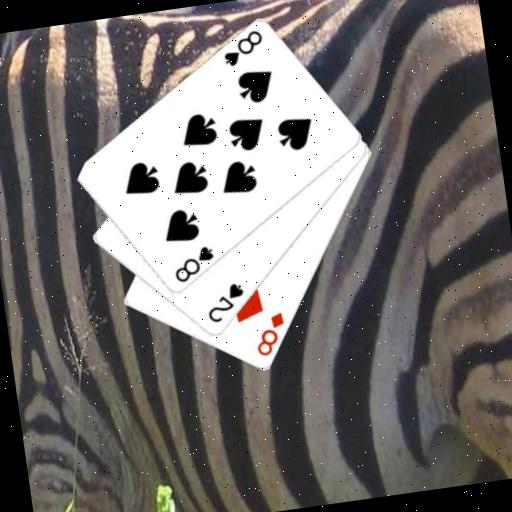2S: (200, 279, 249, 327)
8D: (249, 309, 291, 360)
8S: (168, 242, 219, 287), (217, 26, 268, 71)
